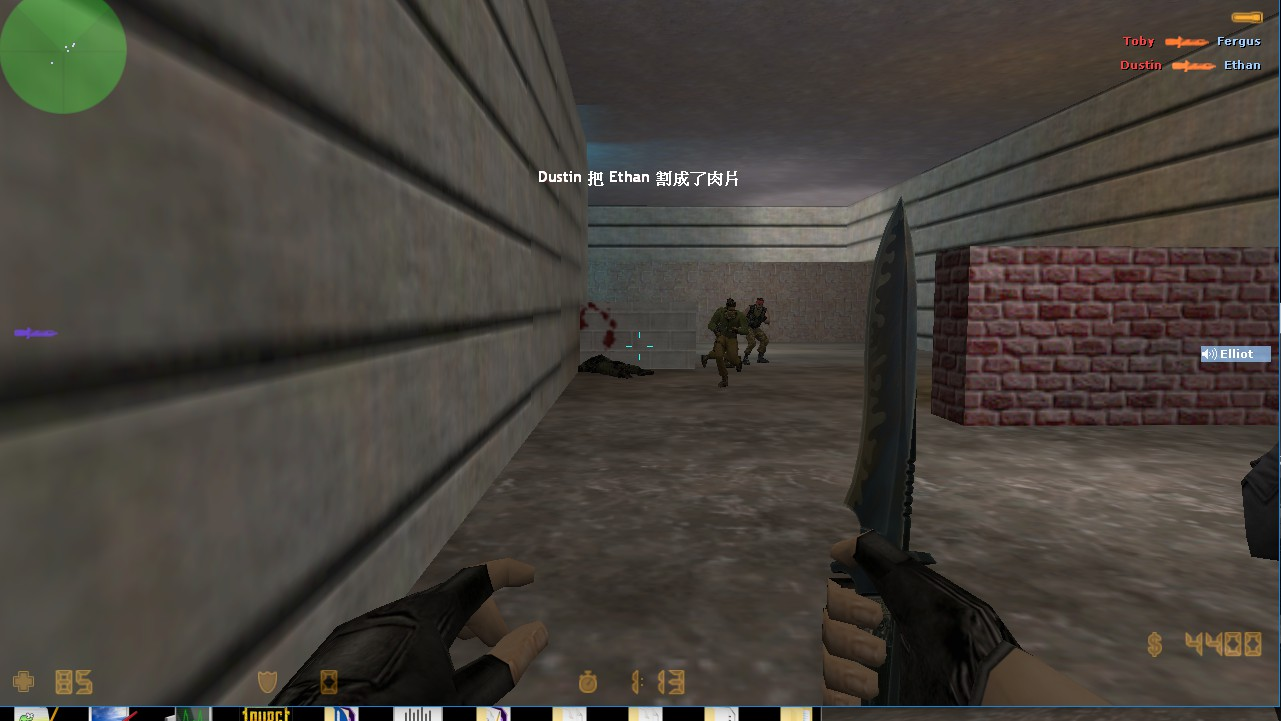person: (705, 296, 747, 389), (745, 296, 772, 365)
